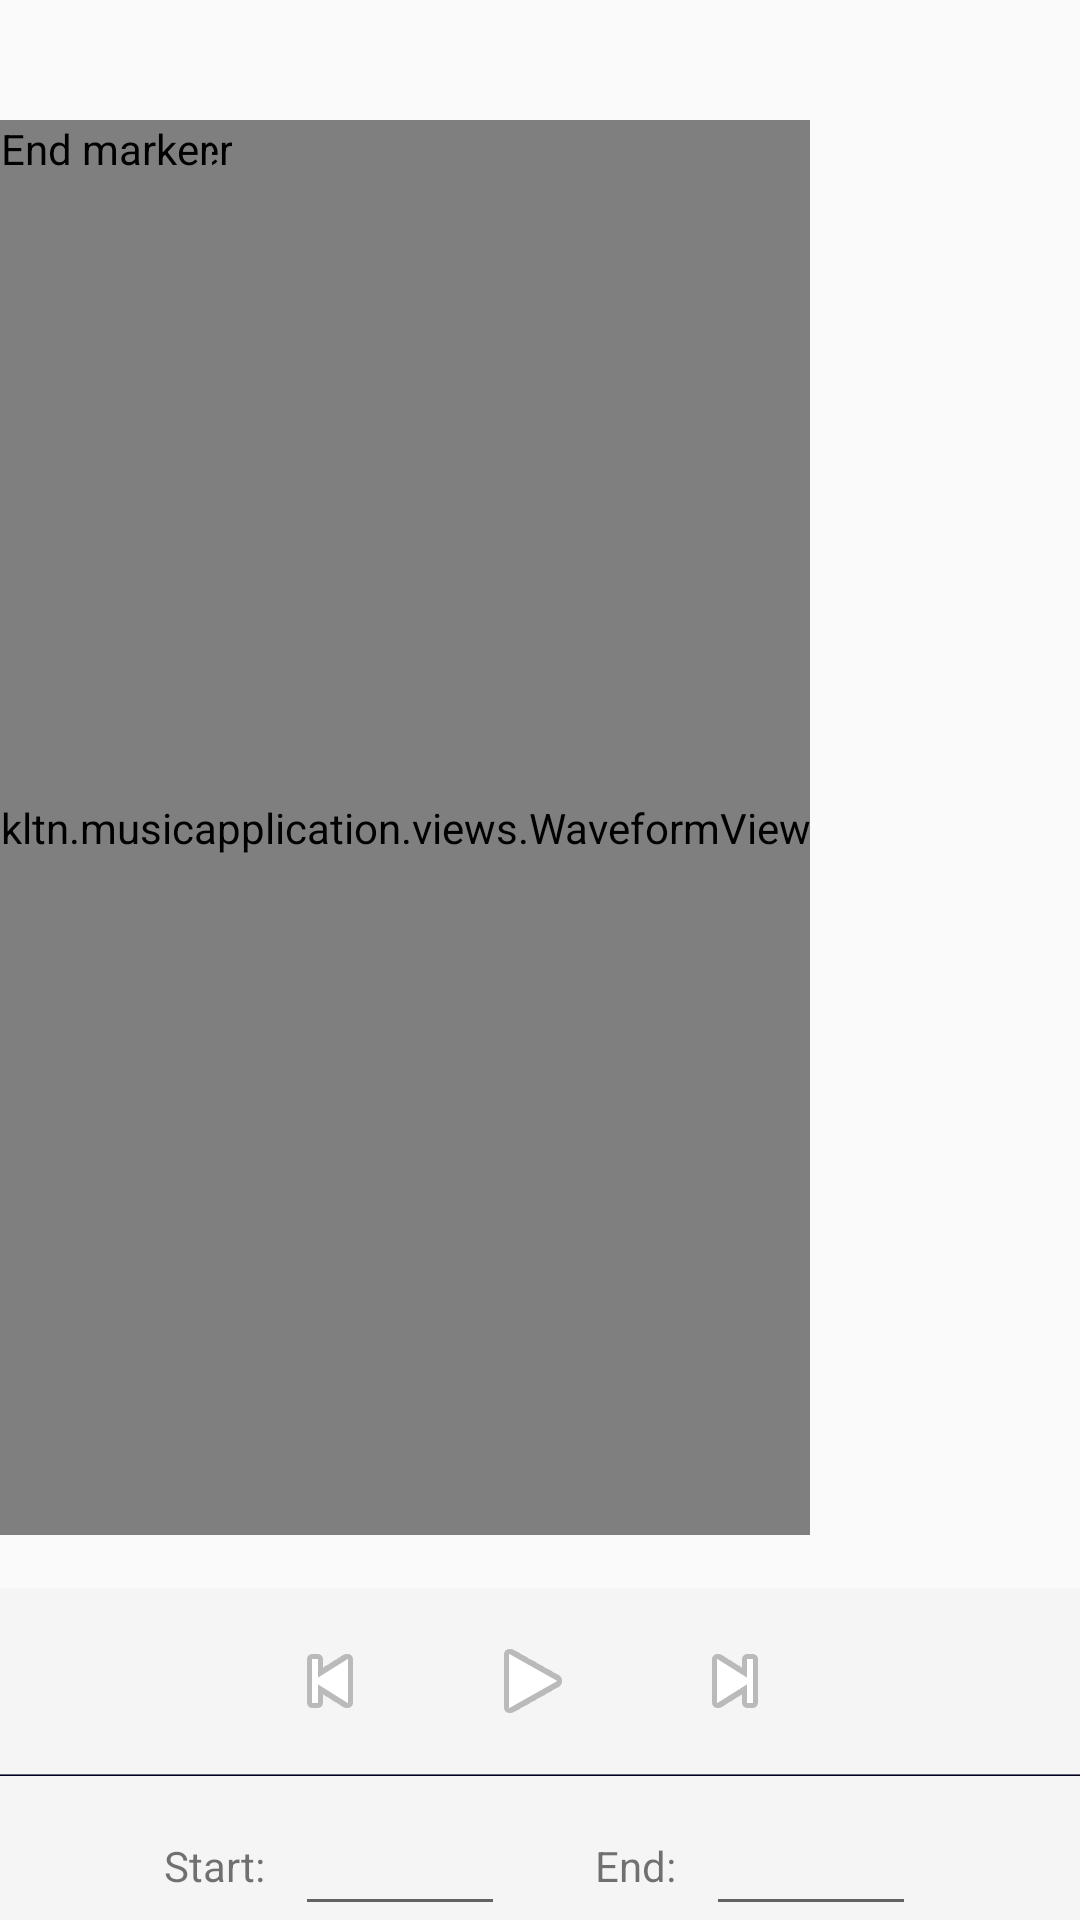

Icon click points for this 1080*1920 phone screenshot, format point (x, y):
Fast forward: point (735, 1681)
Play: point (533, 1681)
Rewind: point (330, 1681)
